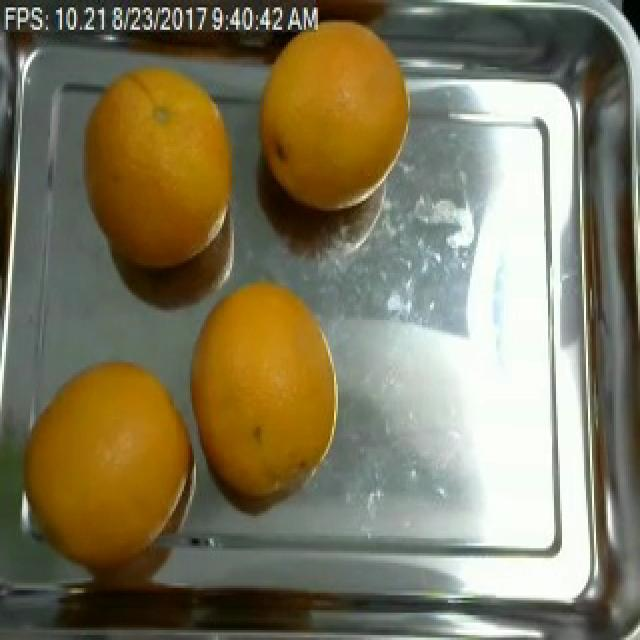Fruit: (236, 0, 418, 223)
